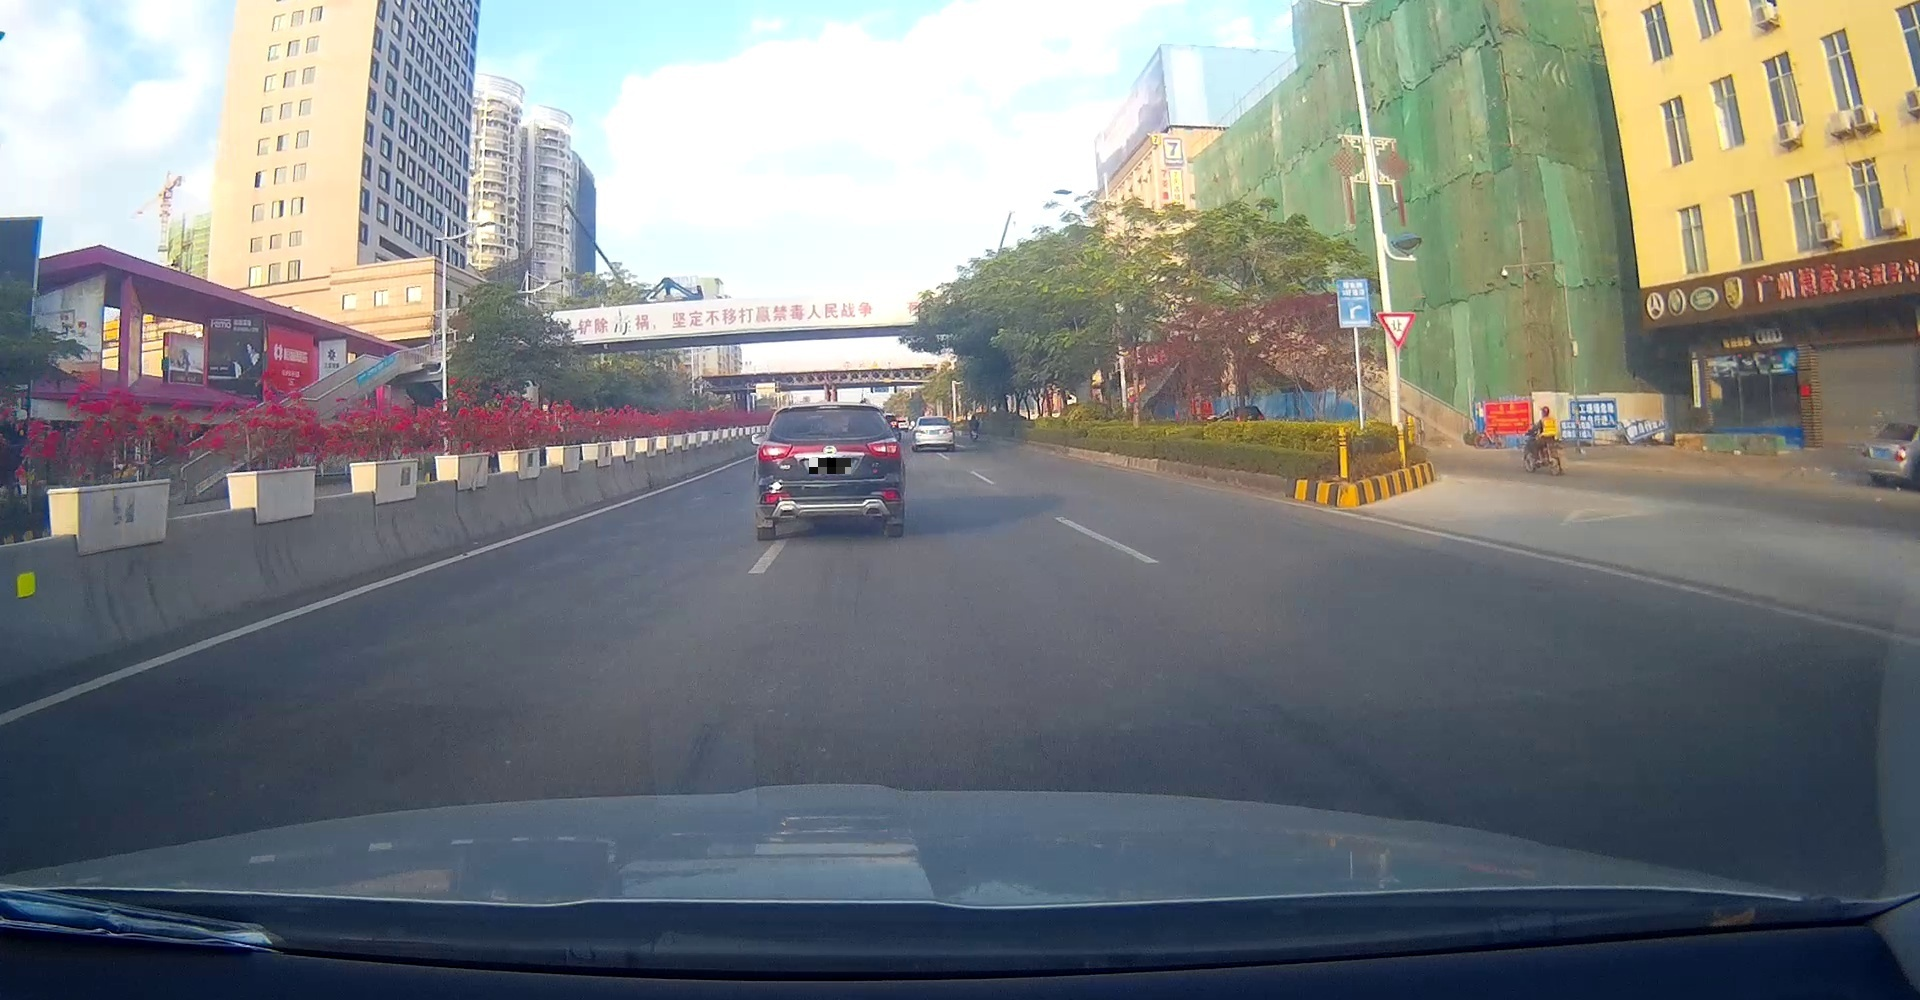L_light: (758, 440, 792, 463), (917, 429, 926, 434)
R_light: (866, 437, 902, 459), (943, 428, 952, 433)
T_light: (817, 404, 841, 410), (930, 418, 938, 419)
day-no: (759, 402, 902, 541), (916, 416, 954, 452)
plate_1: (809, 458, 851, 475)
